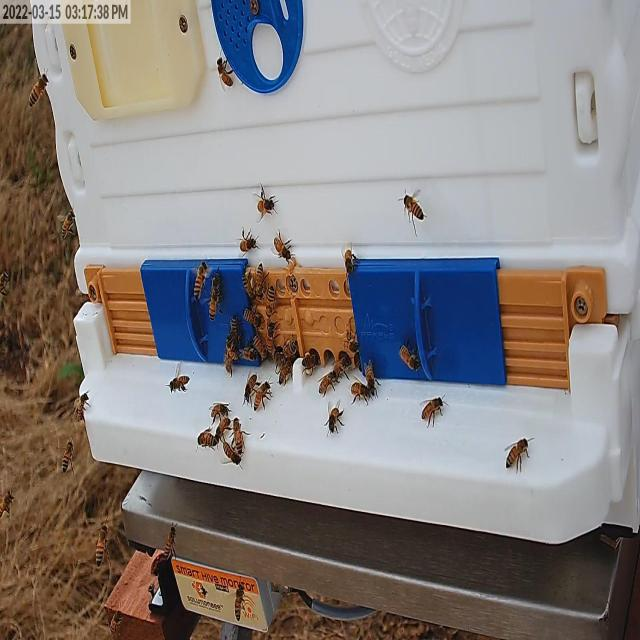honeybee: (401, 188, 427, 228), (397, 338, 423, 375), (322, 404, 343, 444), (25, 70, 48, 105), (424, 396, 447, 430), (255, 188, 278, 222), (274, 231, 298, 263), (506, 438, 530, 469), (252, 382, 271, 419), (240, 302, 264, 328), (222, 440, 243, 469), (340, 244, 359, 275), (193, 256, 207, 296), (93, 526, 107, 566), (1, 486, 15, 526), (217, 56, 234, 88), (60, 212, 76, 246), (242, 366, 256, 403), (208, 290, 223, 324), (318, 371, 338, 396), (239, 232, 259, 257), (162, 521, 175, 558), (233, 419, 245, 458), (264, 286, 278, 319), (345, 324, 360, 354), (364, 359, 378, 391), (331, 353, 348, 379), (168, 374, 195, 390), (254, 260, 266, 296), (233, 584, 243, 626), (354, 382, 373, 404), (214, 417, 230, 442), (279, 339, 297, 361), (194, 432, 217, 449), (243, 269, 256, 299), (206, 399, 231, 414), (267, 319, 279, 349), (254, 335, 268, 360), (302, 353, 319, 371), (240, 346, 256, 365), (210, 273, 222, 298), (64, 438, 72, 475), (279, 366, 292, 387), (230, 318, 239, 347), (225, 350, 234, 377), (77, 393, 86, 420), (0, 272, 9, 298), (226, 340, 237, 361)
